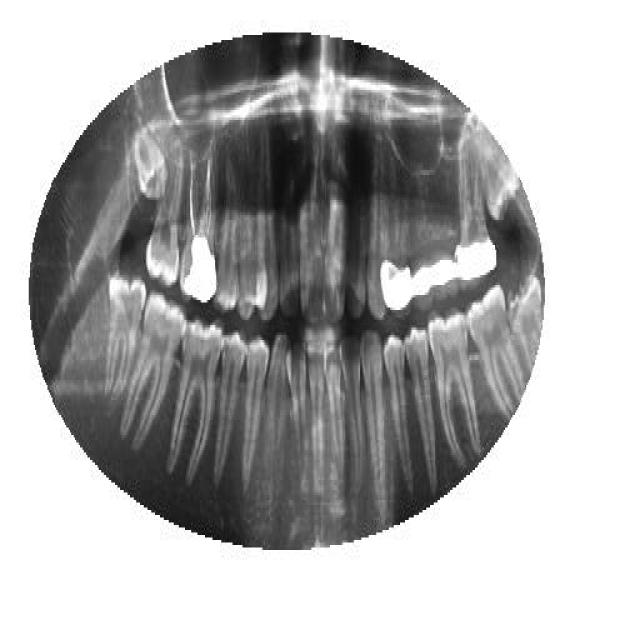Cavity: (505, 265, 544, 367)
Fillings: (453, 150, 498, 278), (381, 168, 410, 312), (432, 168, 456, 290), (410, 195, 432, 297)
Impacted Tooth: (132, 130, 172, 198)
Implant: (180, 140, 218, 305)
